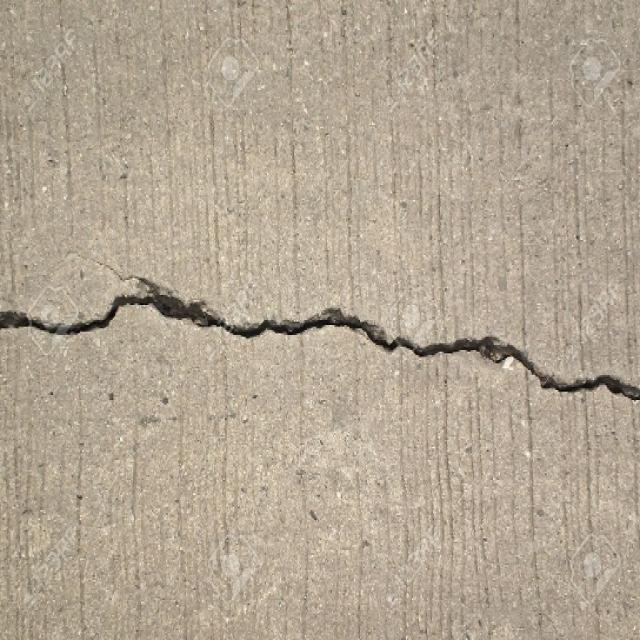crack: (2, 245, 639, 409)
